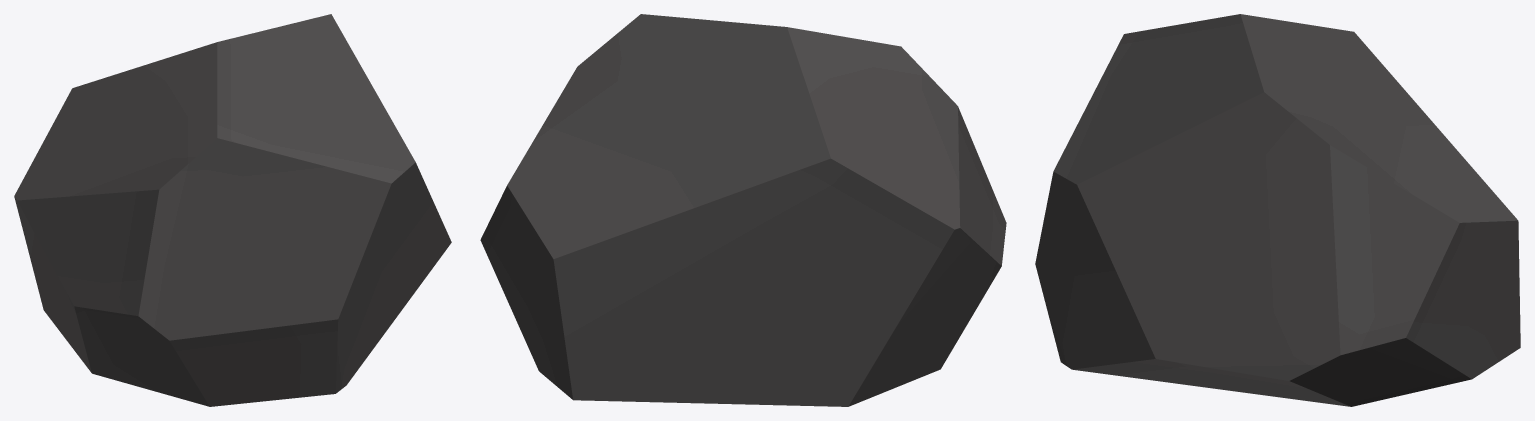
The model's file is Rock4.glb.
The picture shows the model from 3 angles, left to right: view 1: azimuth 30°, elevation 25°; view 2: azimuth 150°, elevation 25°; view 3: azimuth 270°, elevation 25°; orthographic projection. The views are drawn at different scales.
Visible parts, largest first — view 1: Rock Type2 04; view 2: Rock Type2 04; view 3: Rock Type2 04.
Part boxes in pixels (bbox=[...]): Rock Type2 04: bbox=[14, 14, 451, 406]; Rock Type2 04: bbox=[480, 14, 1006, 406]; Rock Type2 04: bbox=[1035, 14, 1520, 406].
Bounding box in the file's own units: 1.22 × 0.8575 × 1.15.
Materials: 1 (1 with a texture image).
